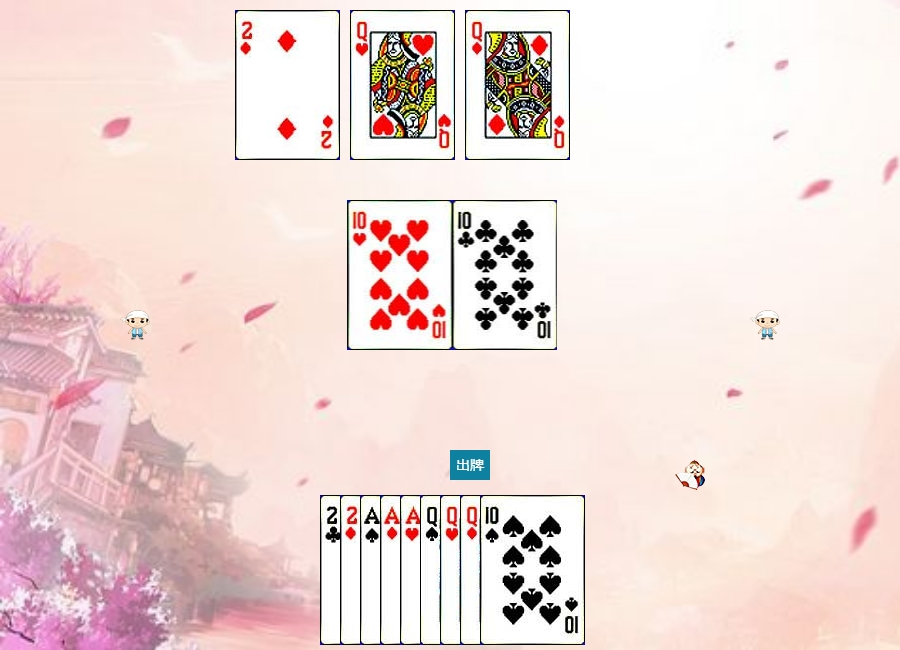10~2: (453, 200, 558, 350)
10~3: (348, 200, 453, 350)
10~4: (480, 495, 585, 645)
12~1: (465, 10, 570, 160), (460, 495, 565, 645)
12~3: (350, 10, 455, 160), (440, 495, 545, 645)
12~4: (420, 495, 525, 645)
14~1: (380, 495, 485, 645)
14~3: (400, 495, 505, 645)
14~4: (360, 495, 465, 645)
15~1: (235, 10, 340, 160), (340, 495, 445, 645)
15~2: (320, 495, 425, 645)
